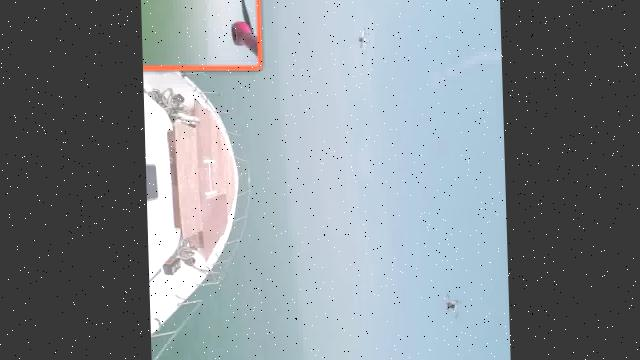drone: (438, 278, 464, 322), (350, 26, 370, 57)
